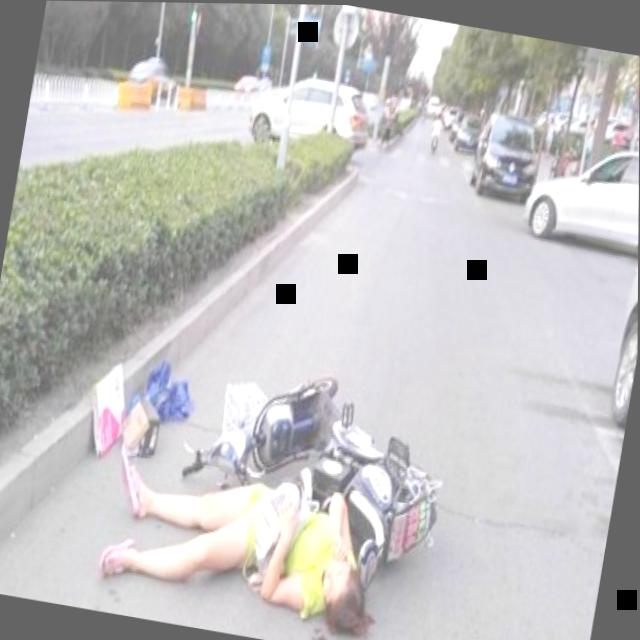Fall-Detected: (89, 410, 400, 640)
